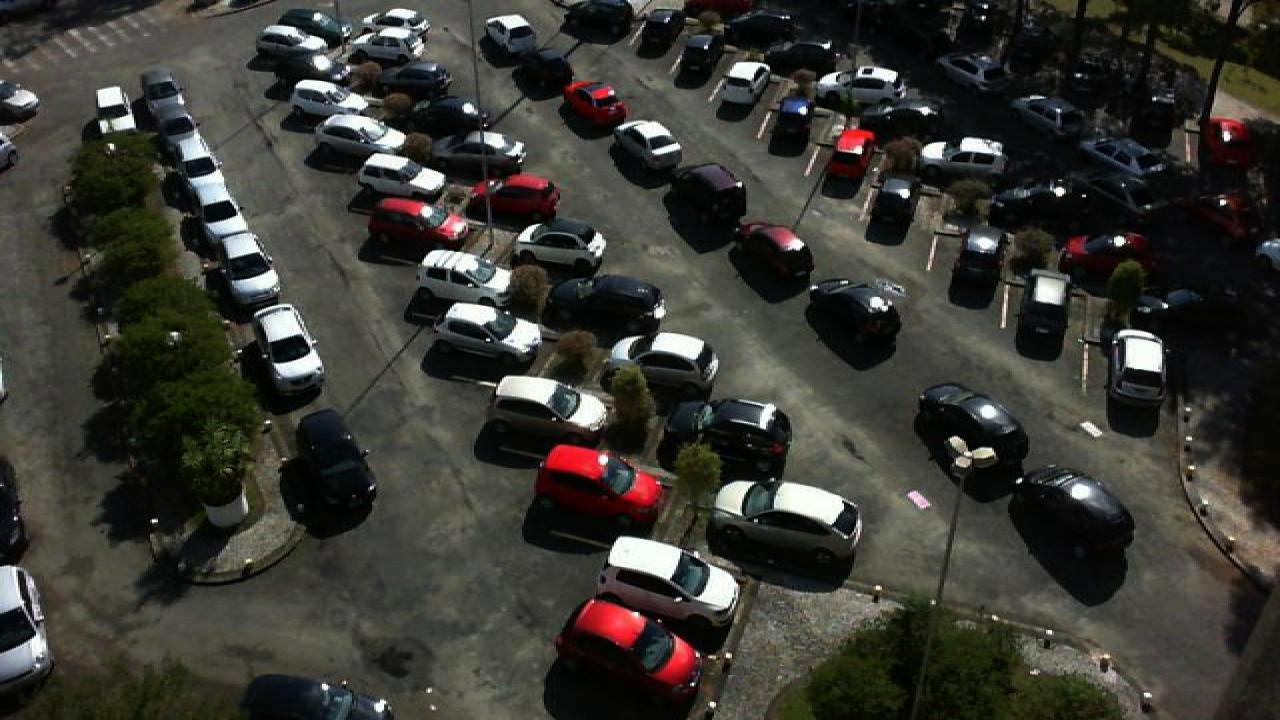Car: (556, 598, 702, 708), (594, 536, 746, 638), (712, 478, 864, 564), (1010, 466, 1136, 554), (532, 444, 664, 524), (914, 382, 1032, 464), (668, 398, 794, 472), (290, 408, 376, 516), (490, 373, 614, 437), (238, 673, 402, 720), (610, 332, 722, 399), (0, 564, 56, 698), (552, 272, 668, 333), (252, 303, 328, 395), (432, 300, 544, 362), (806, 277, 908, 345), (196, 230, 282, 304), (416, 248, 516, 310), (368, 195, 470, 251), (734, 220, 816, 287), (516, 218, 608, 276), (464, 172, 562, 226), (1106, 327, 1172, 406), (674, 162, 750, 226), (1056, 231, 1154, 280), (356, 152, 452, 201), (988, 176, 1090, 222), (312, 112, 408, 160), (1012, 268, 1074, 340), (182, 190, 248, 257), (434, 130, 530, 174), (918, 136, 1010, 180), (612, 120, 686, 174), (948, 226, 1004, 296), (288, 78, 372, 124), (1078, 135, 1166, 177), (934, 50, 1012, 96), (1008, 94, 1088, 138), (560, 81, 630, 131), (868, 170, 924, 231), (166, 152, 224, 210), (854, 99, 940, 136), (762, 97, 818, 153), (402, 97, 482, 136), (822, 64, 906, 101), (346, 29, 432, 64), (142, 68, 194, 124), (824, 127, 878, 180), (510, 47, 572, 91), (1204, 116, 1256, 166), (720, 62, 772, 112), (156, 117, 204, 171), (274, 46, 350, 79), (488, 12, 542, 56), (360, 7, 432, 40), (256, 25, 332, 56)
